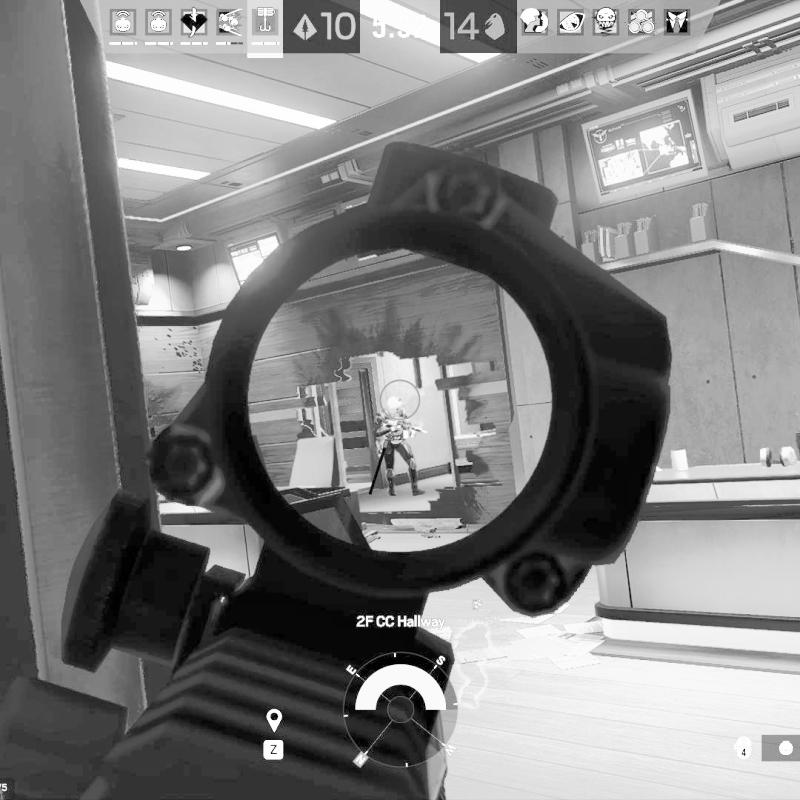Character: (372, 396, 430, 497)
Head: (386, 396, 404, 414)
